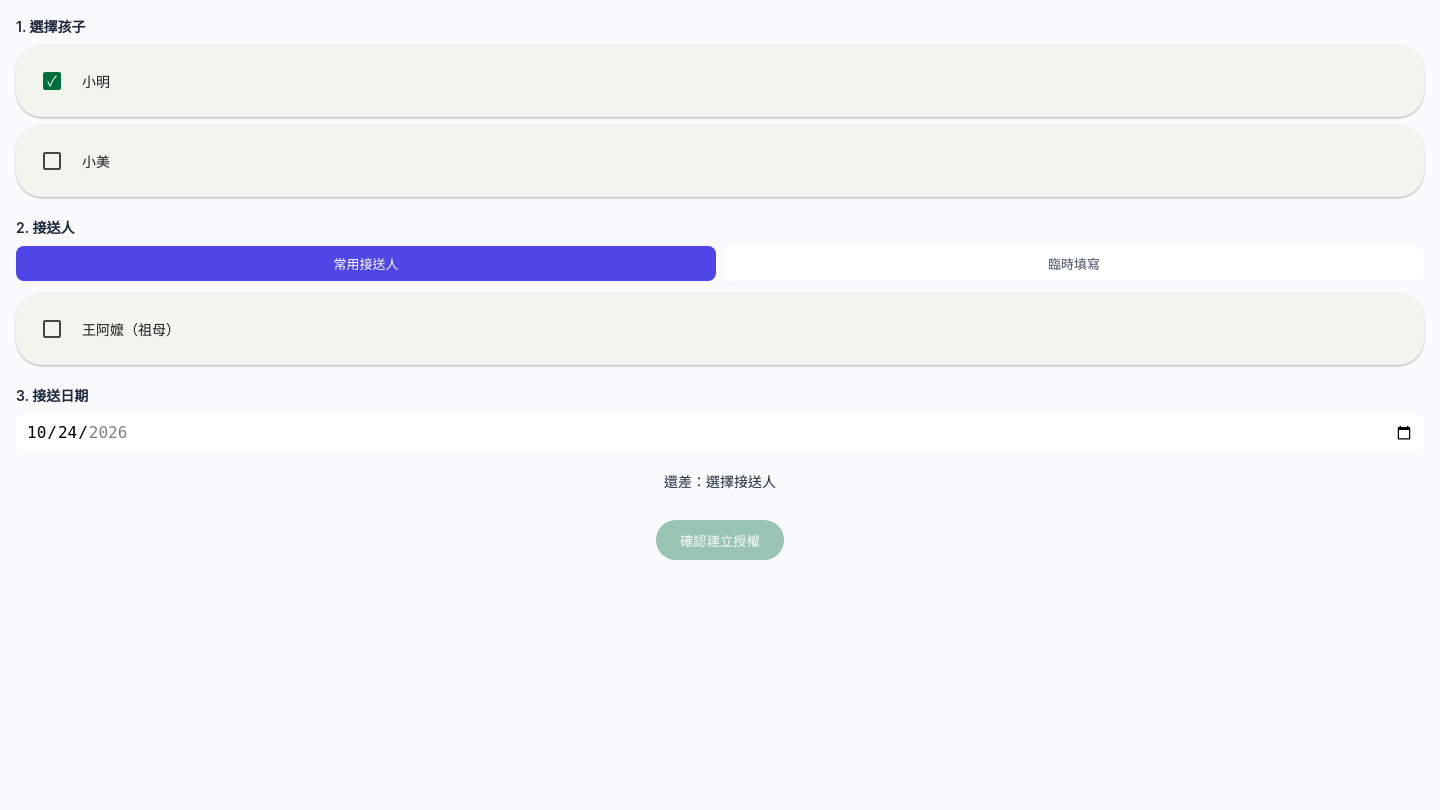
Test: PickupCreateView › P1-1 — 切換孩子後新孩子的常用接送人請求真的失敗時，清單清空且彈出錯誤提示（不可沿用上一個孩子的清單）
Click the button with class "child-row" showing "小美". click: [96, 161]
box: [16, 125, 1424, 197]
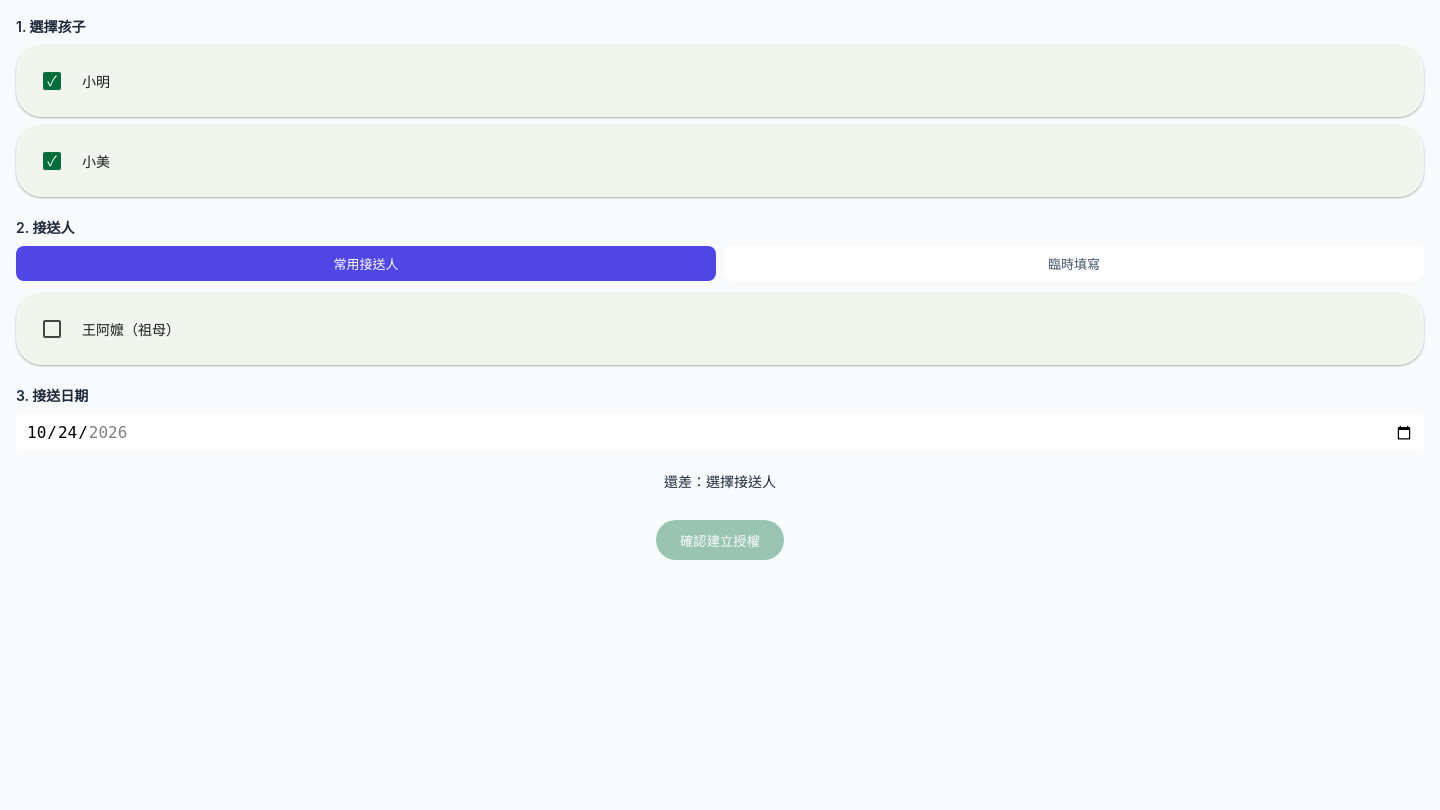
Click the button with class "child-row" showing "✓ 小明". click: [96, 81]
box: [16, 45, 1424, 117]
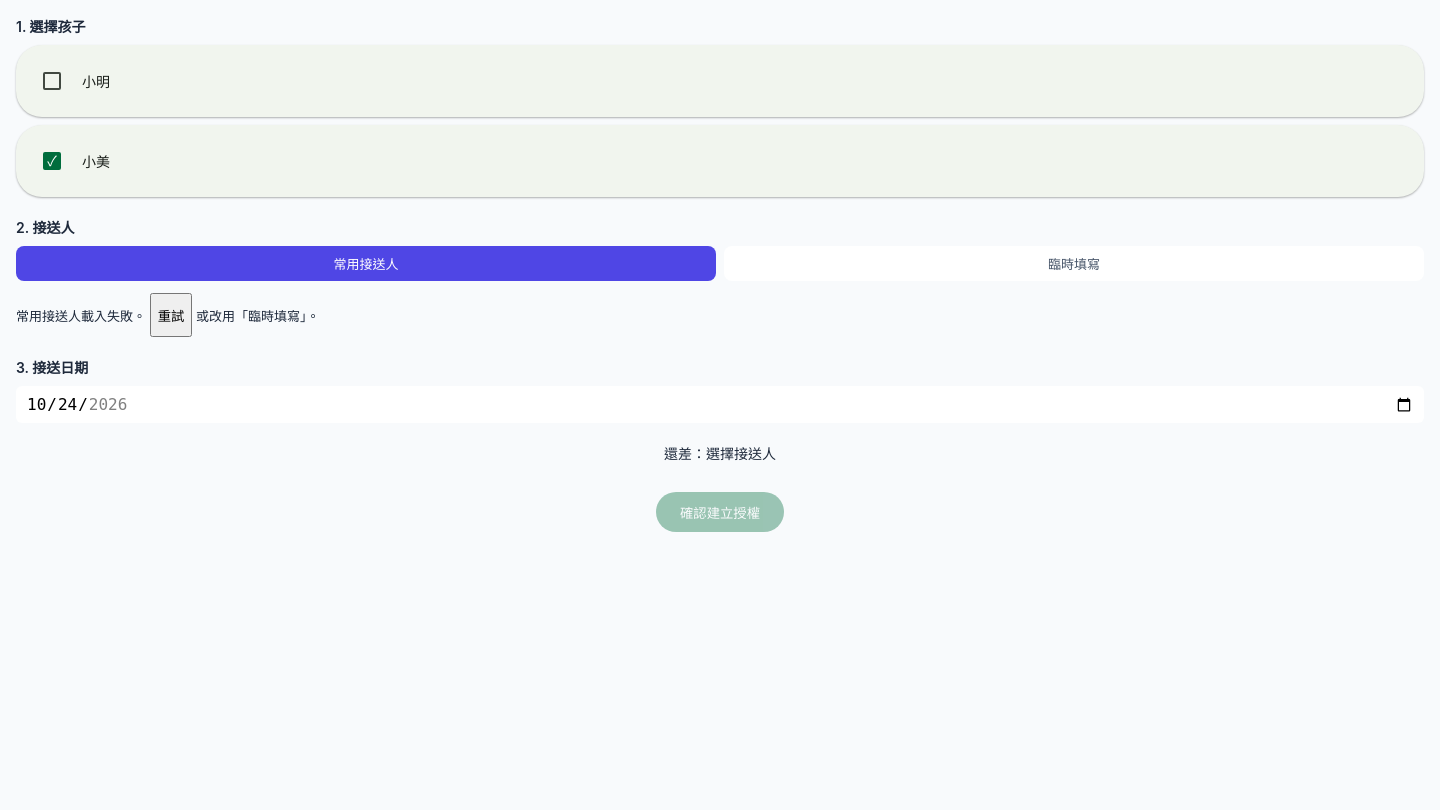
Result: the text "王阿嬤" is gone
Result: the text "常用接送人載入失敗" is shown at [16, 308, 150, 324]
